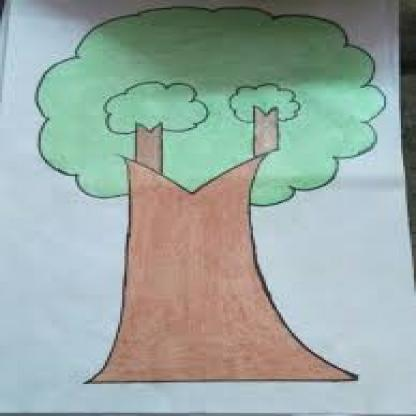branch_sharp: (115, 153, 272, 193)
crown_cloud: (32, 8, 384, 206)
trunk_straight: (109, 206, 311, 348)
